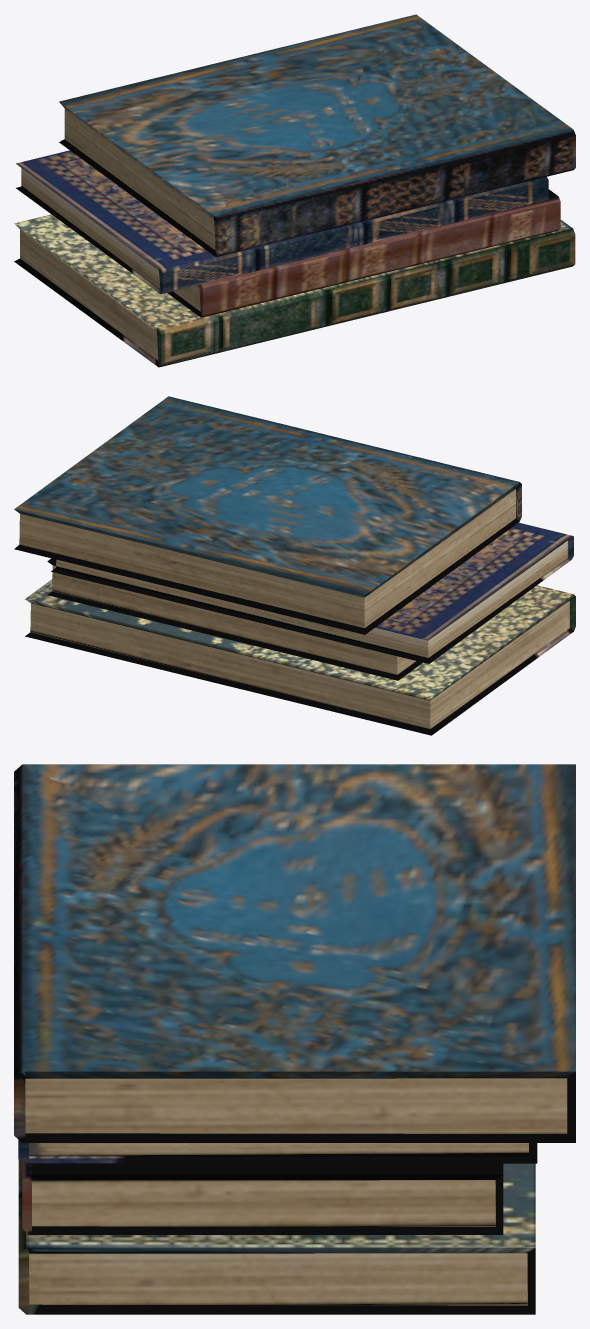
Rendered from BookStack.fbx.
3 renders of one model, top to bottom at view 1: azimuth 30°, elevation 25°; view 2: azimuth 150°, elevation 25°; view 3: azimuth 270°, elevation 25°, orthographic. The views are drawn at different scales.
Visible parts, largest first — view 1: BookStack; view 2: BookStack; view 3: BookStack.
Part boxes in pixels (x1,y1,x2,y2): BookStack: [14, 14, 575, 367]; BookStack: [14, 396, 575, 735]; BookStack: [14, 764, 575, 1314].
Bounding box in the file's own units: 1606 × 511 × 1072.
